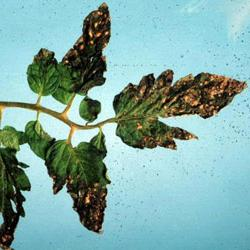Tomato Septoria leaf spot: (111, 60, 249, 163), (48, 2, 121, 110), (45, 131, 119, 234)
